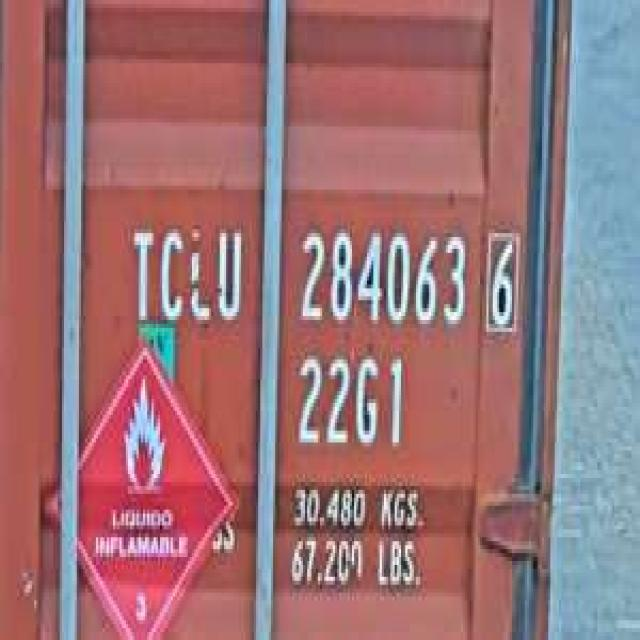dv: (480, 217, 523, 340)
owner: (124, 213, 245, 336)
serial: (292, 217, 470, 336)
size: (290, 344, 408, 462)
